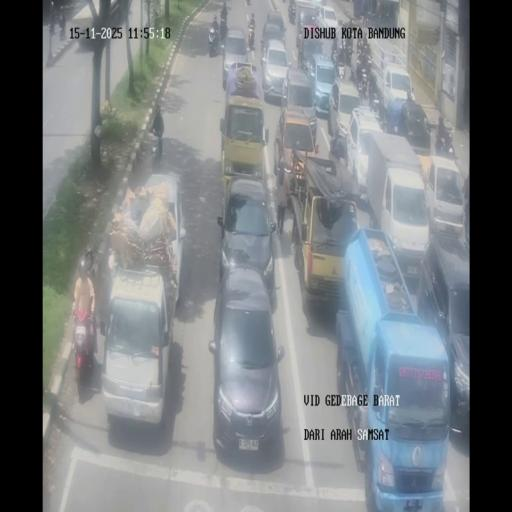3: (338, 231, 449, 506), (289, 154, 359, 316), (363, 133, 428, 265), (218, 85, 267, 201), (68, 1, 130, 48)
car: (209, 267, 284, 464), (100, 268, 174, 431), (216, 178, 276, 300), (138, 174, 188, 308), (273, 103, 318, 200), (423, 155, 465, 238), (328, 75, 364, 151), (392, 99, 432, 153), (307, 52, 337, 117), (261, 40, 290, 102), (222, 26, 248, 90), (317, 4, 341, 50), (264, 10, 286, 40)
truck: (73, 300, 97, 380), (149, 124, 164, 170), (435, 129, 456, 160), (368, 80, 384, 120), (332, 40, 348, 79), (79, 248, 96, 280), (357, 61, 370, 98), (208, 25, 219, 57), (296, 28, 305, 60), (363, 36, 371, 63), (59, 9, 66, 38), (219, 16, 227, 41), (248, 24, 255, 51), (49, 4, 55, 34), (288, 2, 296, 24), (339, 19, 348, 38), (218, 0, 226, 16), (406, 88, 414, 101), (299, 10, 305, 27), (260, 36, 265, 56)
